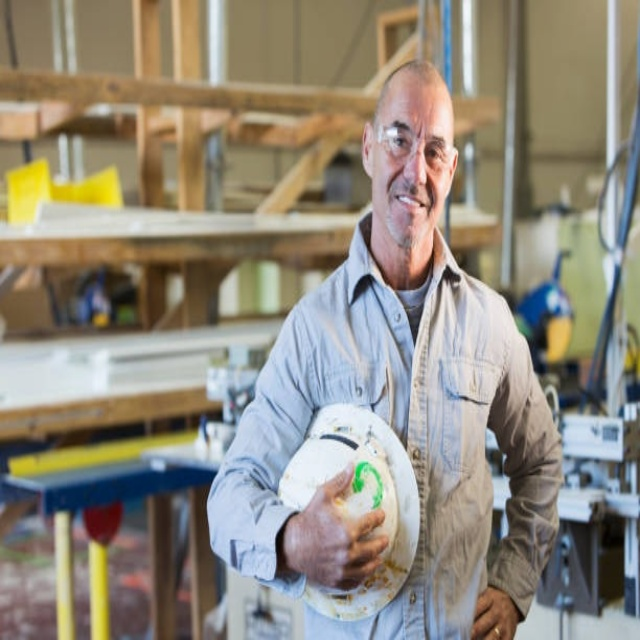Gafas: (375, 122, 455, 168)
Sin_guantes: (288, 459, 392, 593), (474, 574, 523, 637)
Sin_mascara: (392, 187, 429, 237)
